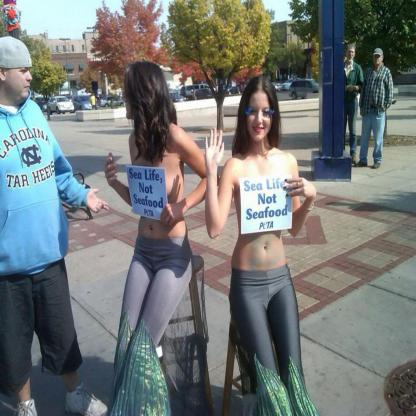face: (248, 98, 273, 142), (7, 59, 33, 100), (123, 81, 145, 119), (375, 54, 383, 66), (348, 49, 355, 62)
